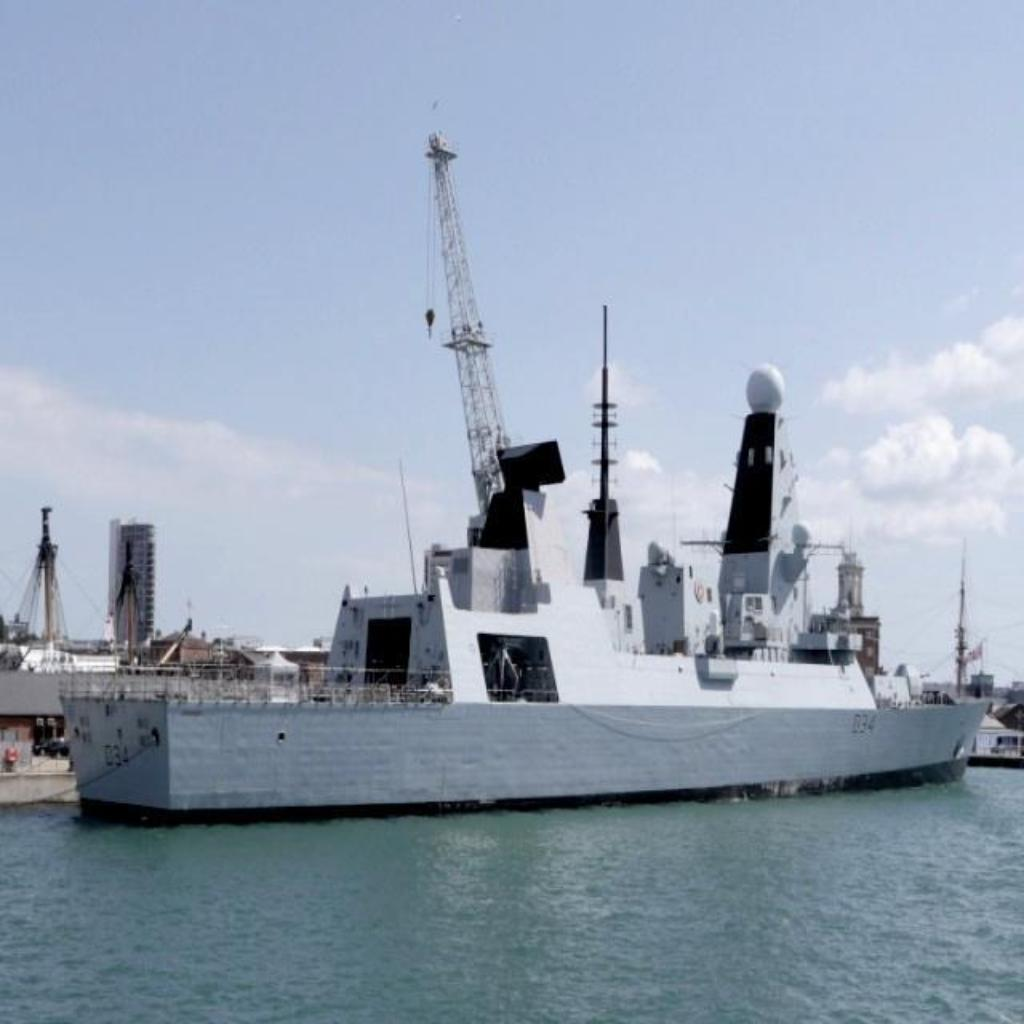Warship: (58, 344, 990, 826)
